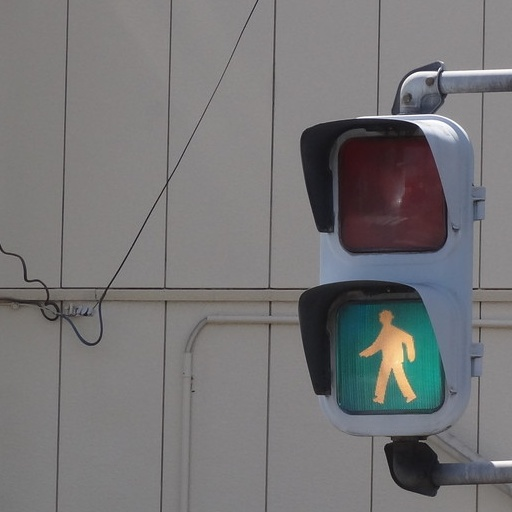Pedestrian_Signal_Blue: (308, 112, 458, 432)
